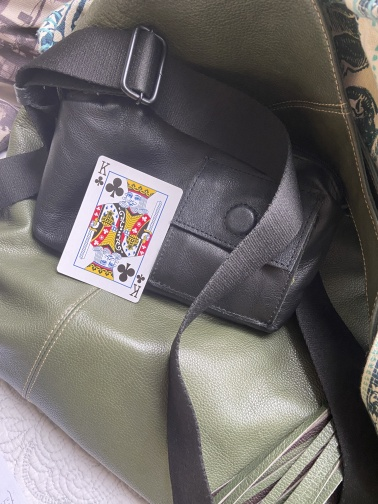king: (55, 153, 185, 305)
